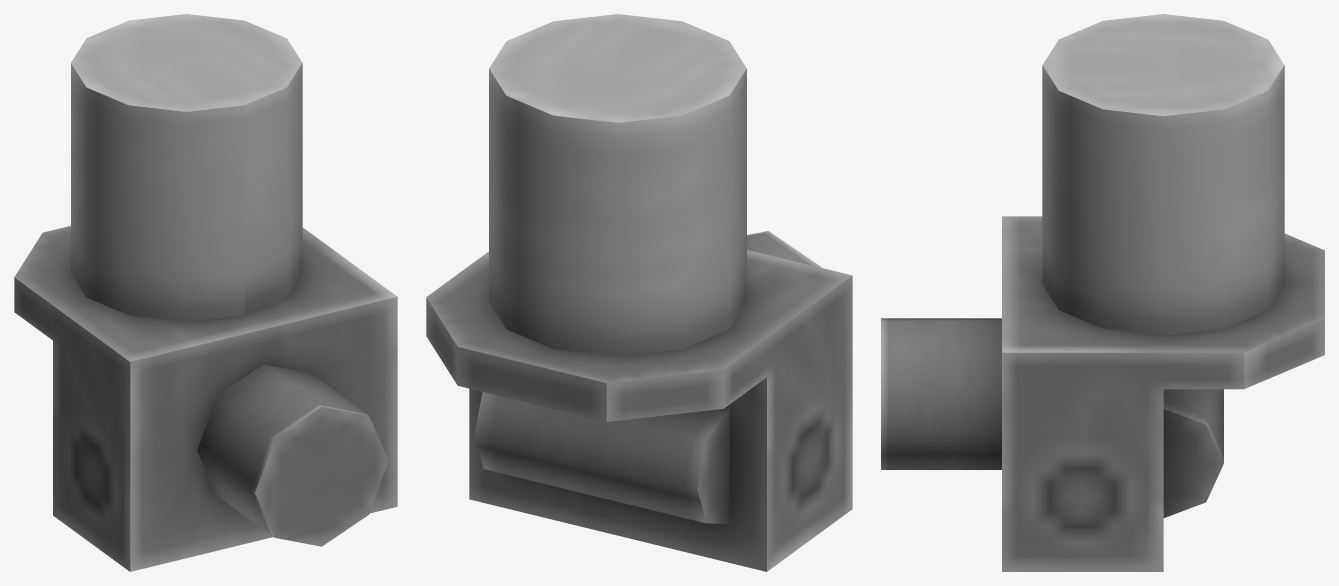
The model's file is 4mv_vl_sensor_accelerometer_srf_1_compact.obj.
3 renders of one model, left to right at view 1: azimuth 30°, elevation 25°; view 2: azimuth 150°, elevation 25°; view 3: azimuth 270°, elevation 25°, orthographic. The views are drawn at different scales.
Visible parts, largest first — view 1: mesh1; view 2: mesh1; view 3: mesh1.
Part boxes in pixels (x1,y1,x2,y2): mesh1: (14,14,397,571); mesh1: (426,14,852,571); mesh1: (881,14,1324,571).
Bounding box in the file's own units: 0.1 × 0.15 × 0.1375.
Materials: 1 (1 with a texture image).
